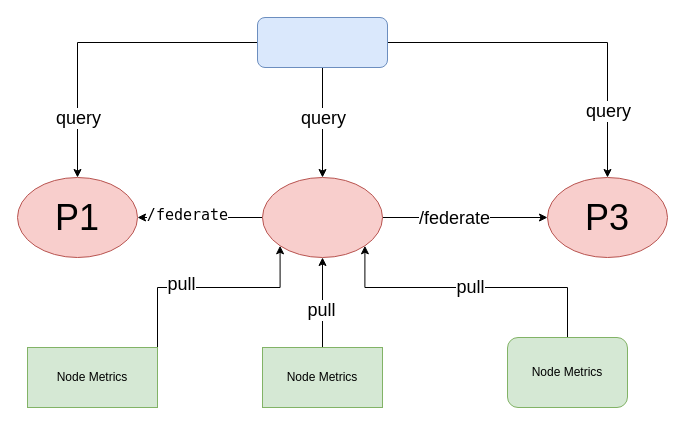
Some shapes in this 685 by 425 pixel diagram are drawn without their labels. The shapes that lost their labels are listed below. From the top down, each one's centre as x and y in pixels, then its label:
At (322,42): "Nginx".
At (322,217): "P2".
